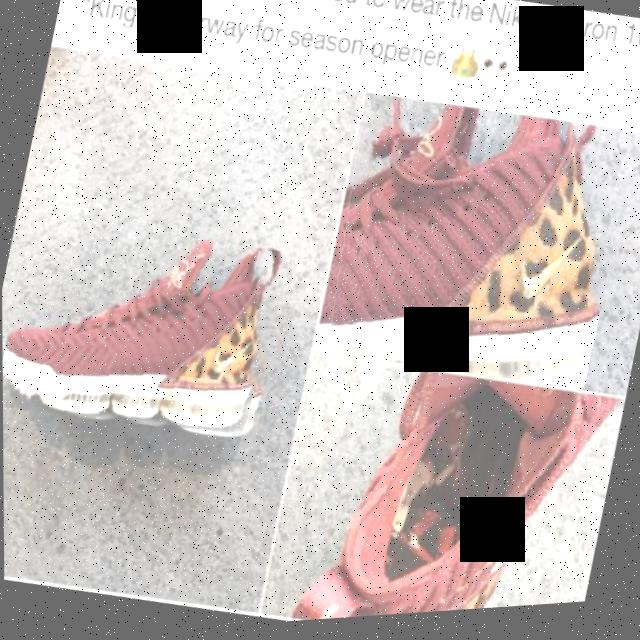shoe: (311, 85, 636, 412), (1, 201, 294, 460)
